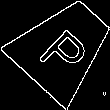P_NE: (33, 16, 95, 78)
